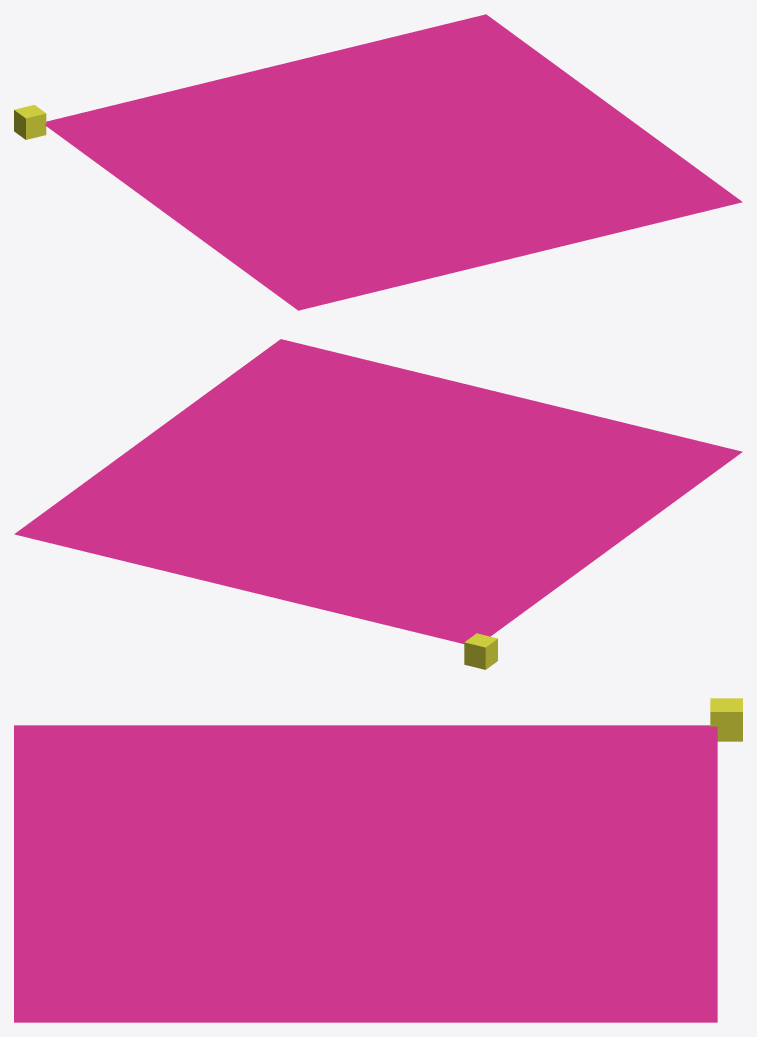
File: template.glb
The picture shows the model from 3 angles, top to bottom: view 1: azimuth 30°, elevation 25°; view 2: azimuth 150°, elevation 25°; view 3: azimuth 270°, elevation 25°; orthographic projection. The views are drawn at different scales.
Parts seen in each view (by area): view 1: Plane, Cube; view 2: Plane, Cube; view 3: Plane, Cube.
Part boxes in pixels (x1,y1,x2,y2): Plane: (44,14,742,310); Cube: (14,105,46,139); Plane: (14,339,742,643); Cube: (464,633,497,669); Plane: (14,725,717,1022); Cube: (710,698,742,741).
Size of what is drawn, in the model's own units: 6.25 by 0.2778 by 6.21.
